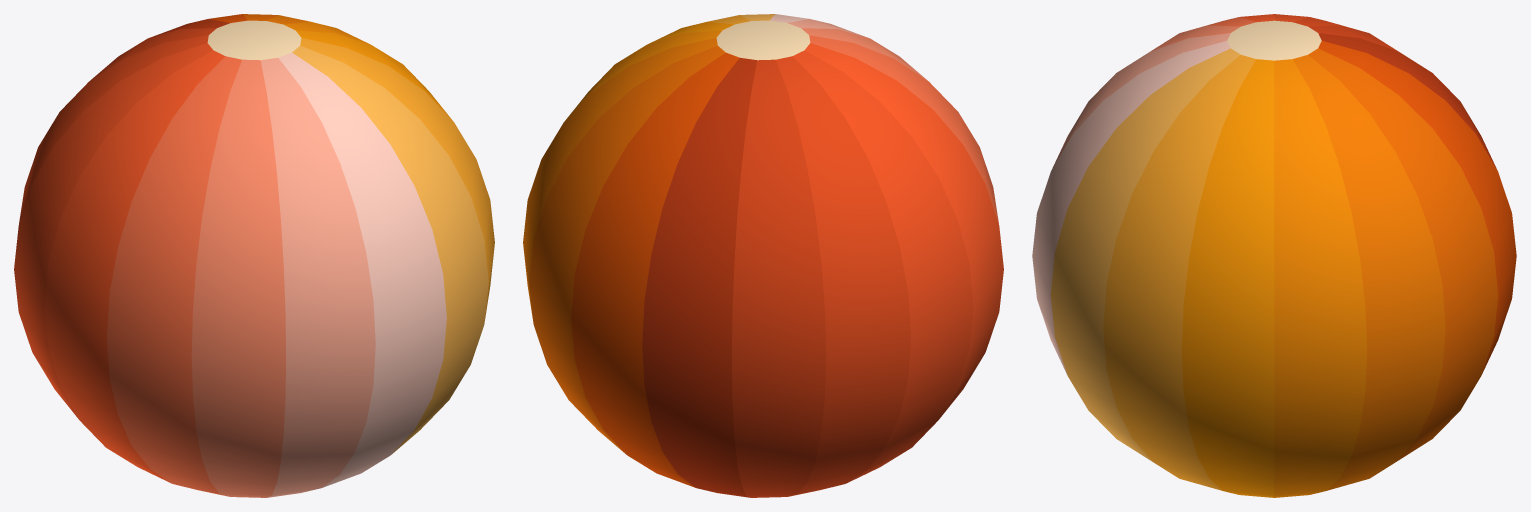
Rendered from Ball_2.fbx.
The picture shows the model from 3 angles, left to right: view 1: azimuth 30°, elevation 25°; view 2: azimuth 150°, elevation 25°; view 3: azimuth 270°, elevation 25°; orthographic projection.
Visible parts, largest first — view 1: Ball_2; view 2: Ball_2; view 3: Ball_2.
Boxes of the visible parts, left/top/right/bottom form: Ball_2: left=14, top=14, right=494, bottom=497; Ball_2: left=523, top=14, right=1003, bottom=497; Ball_2: left=1032, top=14, right=1516, bottom=497.
Bounding box in the file's own units: 23.86 × 23.4 × 23.86.
1 material, 1 textured.
